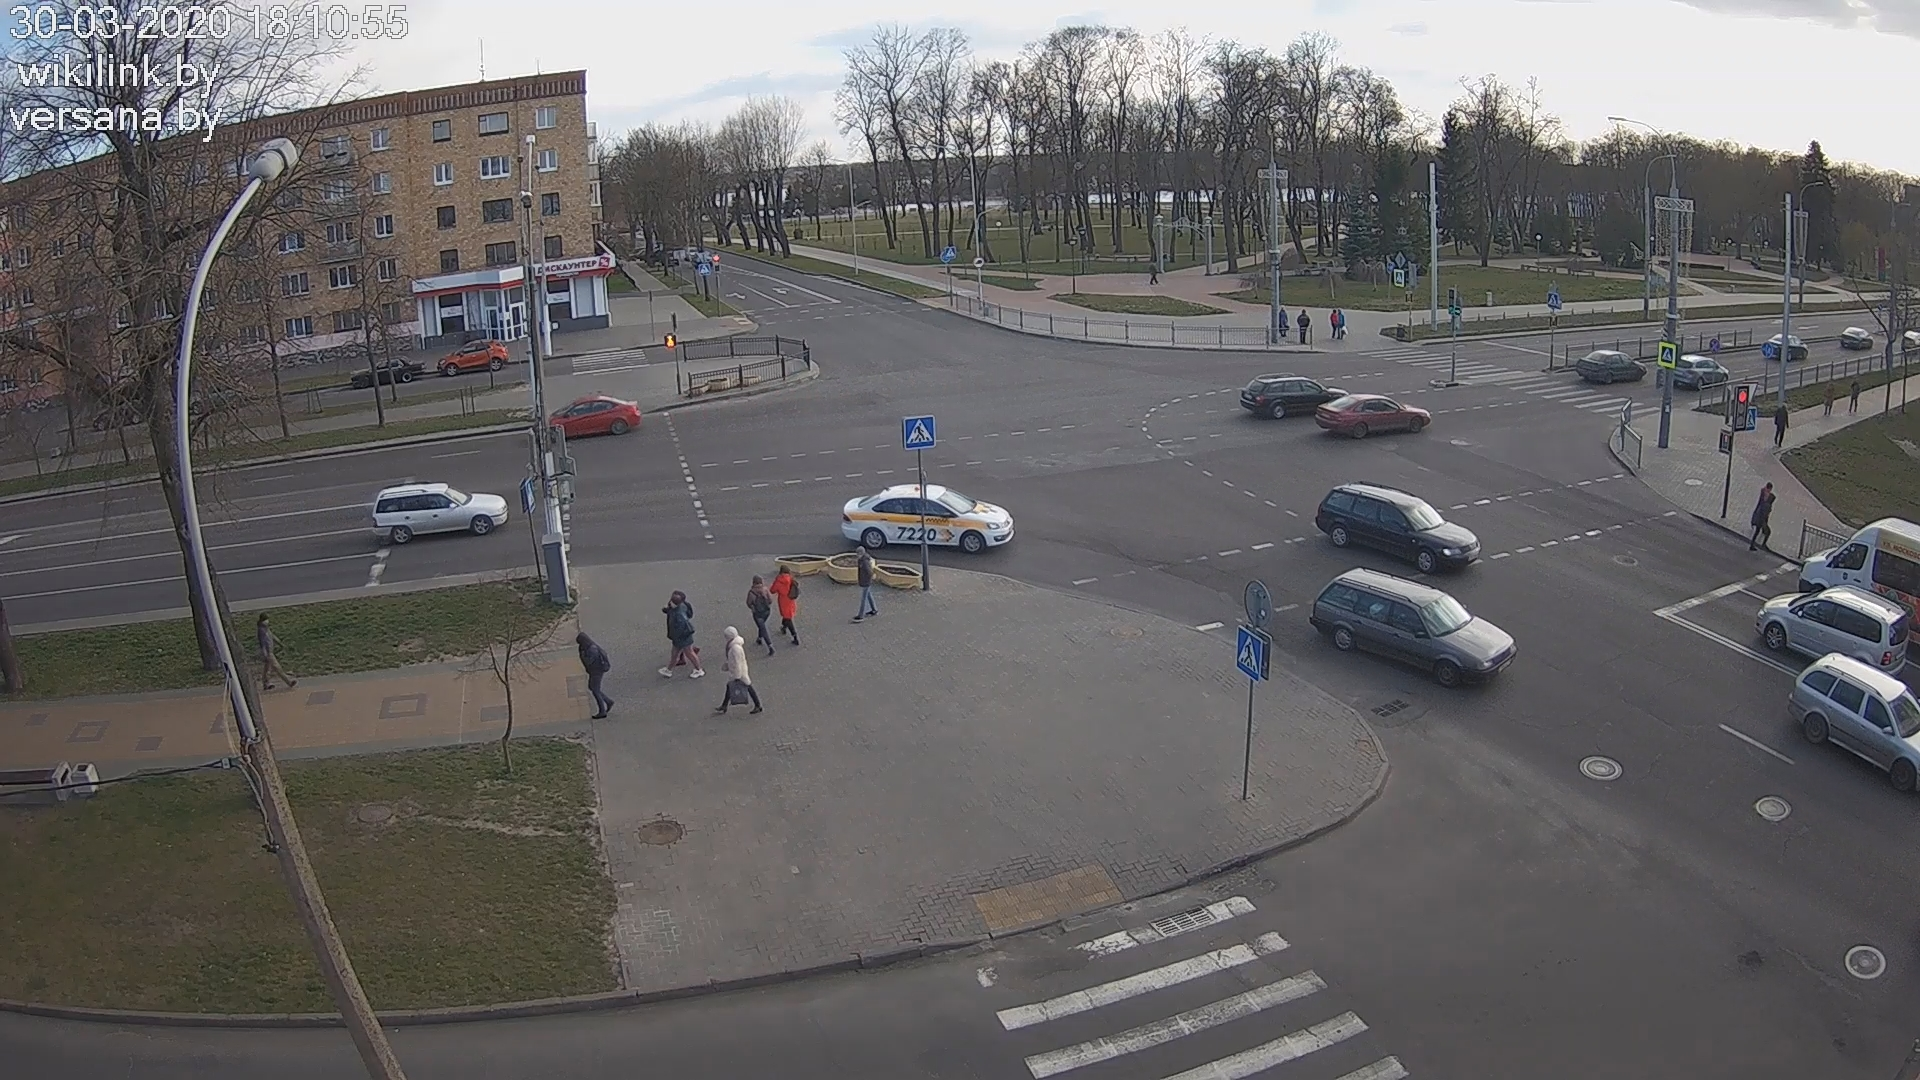car: (1309, 566, 1518, 688), (1787, 653, 1920, 794), (1316, 480, 1482, 575), (1754, 584, 1908, 676), (840, 483, 1015, 556), (372, 483, 508, 545), (1315, 393, 1431, 438), (1240, 373, 1350, 419), (549, 392, 640, 438), (436, 339, 509, 376), (349, 355, 429, 388), (1576, 349, 1648, 385), (1673, 353, 1730, 389)
